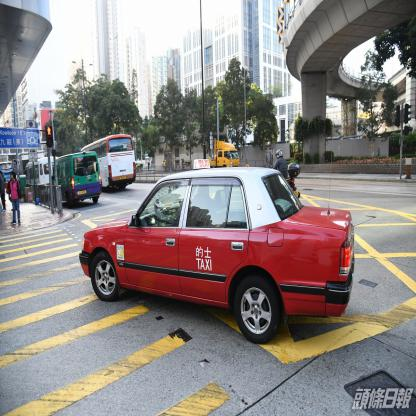taxi: (79, 156, 361, 356)
